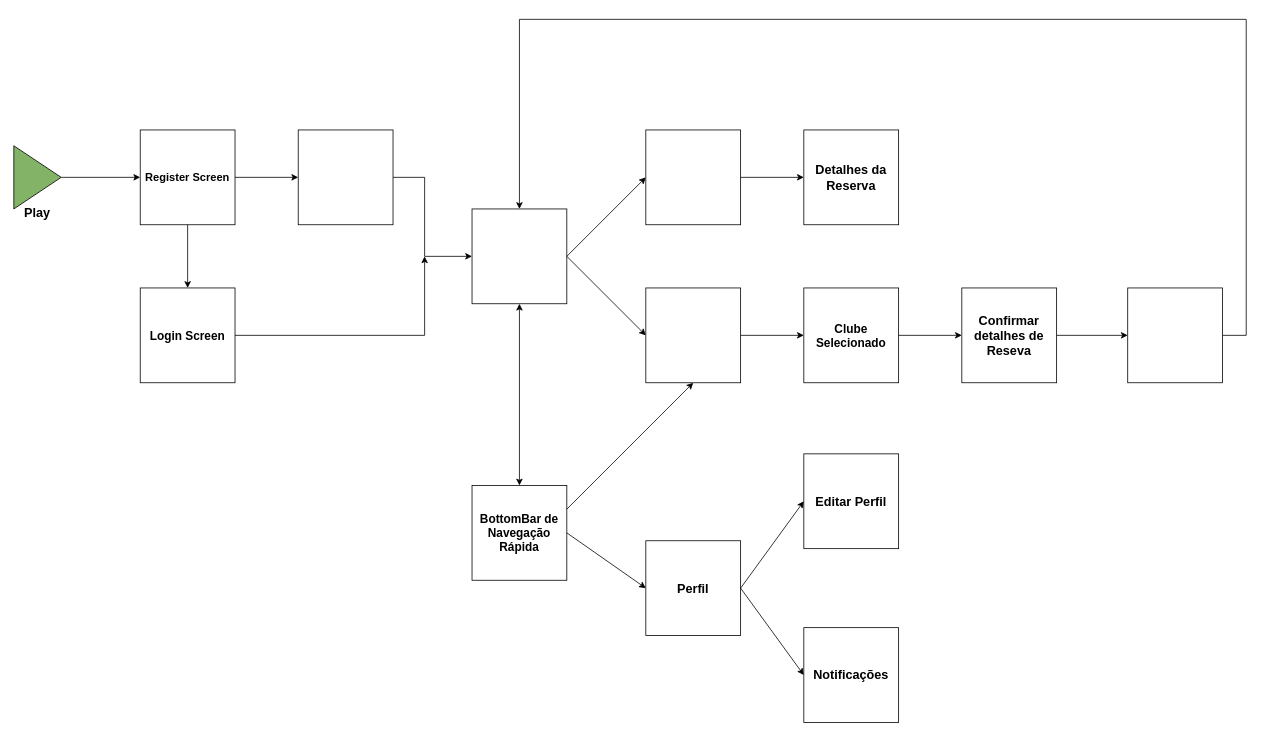
This 1266x736 diagram has some shape labels left out. The centre of each missing label's shape, as x and y in pixels:
Detalhes Register Screen: [345,177]
Home Screen: [519,256]
Pesquisar Clube: [693,335]
Recibo de Reserva: [1175,335]
Ultimas reservas: [693,177]
